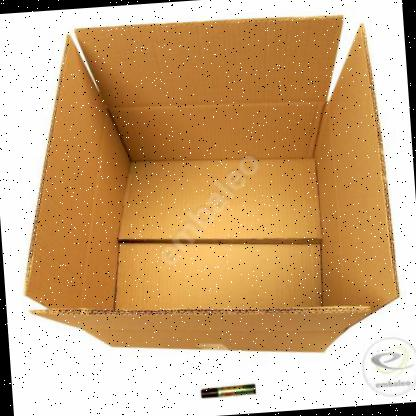box: (23, 13, 400, 352)
opened: (25, 15, 399, 312)
